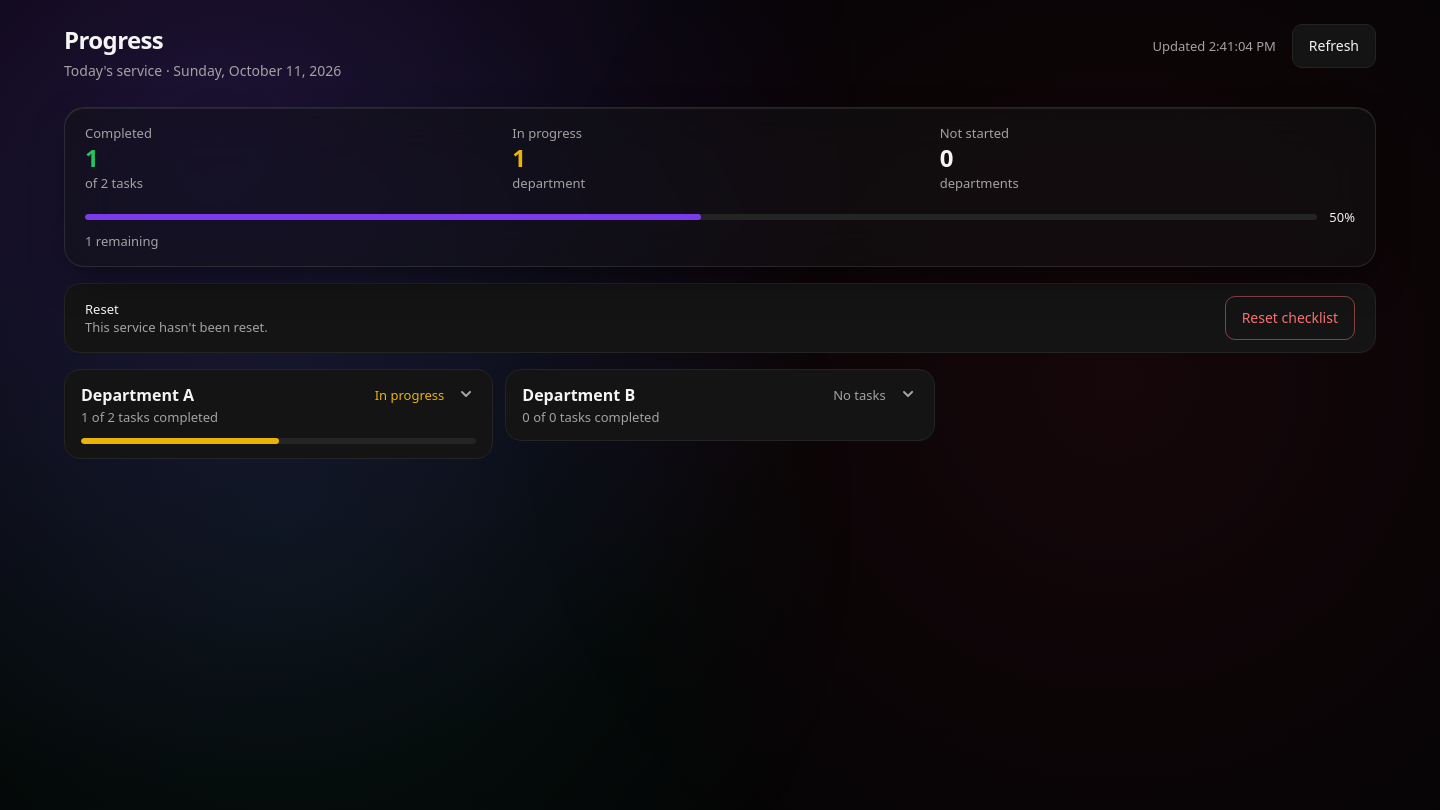
Test case: progress page › confirms before resetting, with the required wording, then reports the result
The image size is (1440, 810).
Expected: the text "Department A" is shown, [81,384,194,406]
Step 1. Click the button "Reset checklist" → (1290, 318), box [1225,296,1355,340]
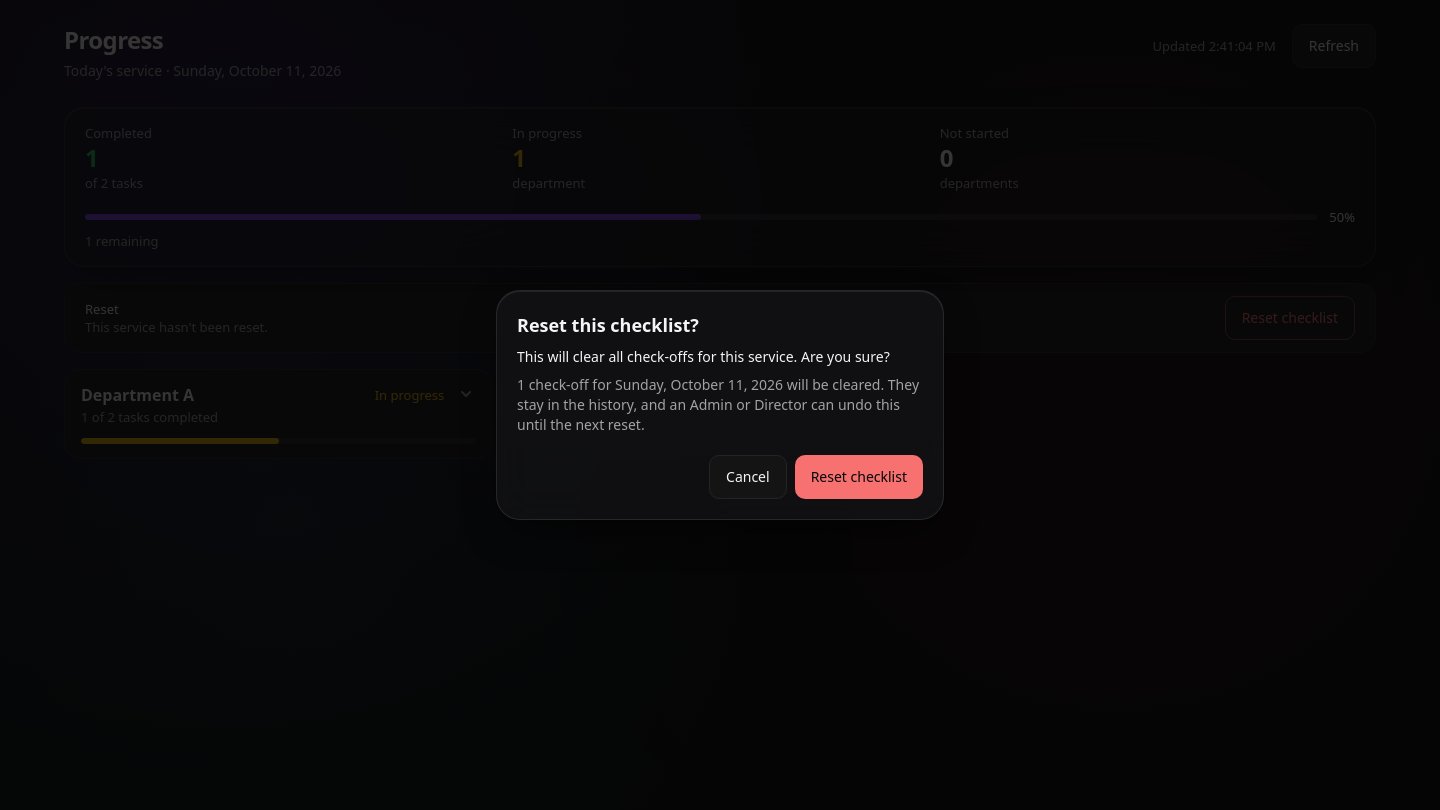
Result: the text "This will clear all check-offs for this service. Are you sure?" is shown at [517,347,923,367]
Step 2. Click the button "Reset checklist" → (859, 477), box [795,455,923,499]
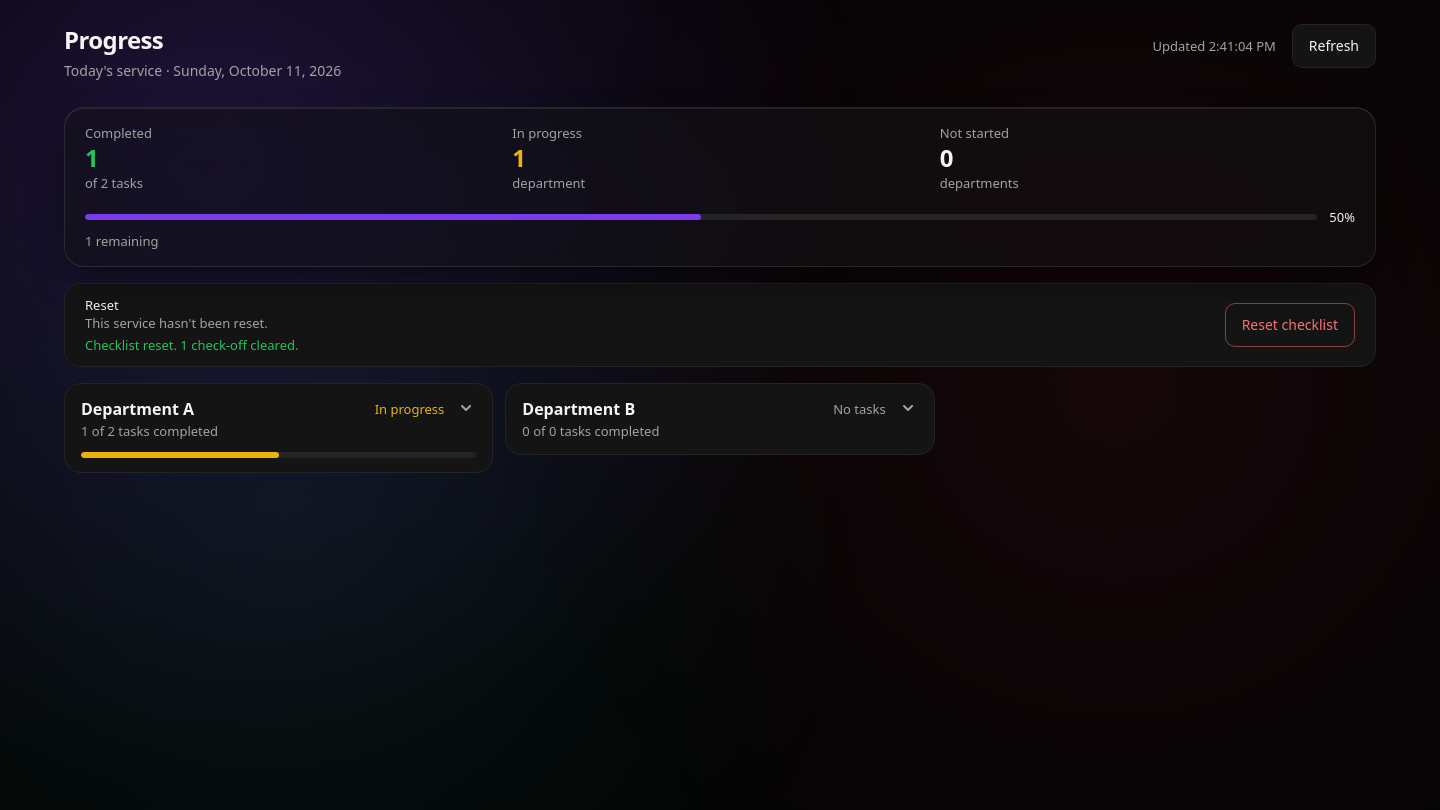
Result: the text "Checklist reset. 1 check-off cleared." is shown at [85,336,298,354]
